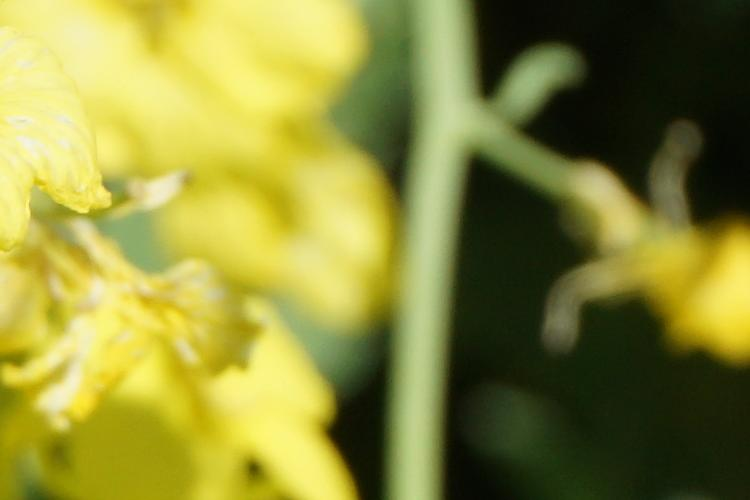yellow: (19, 204, 266, 420)
